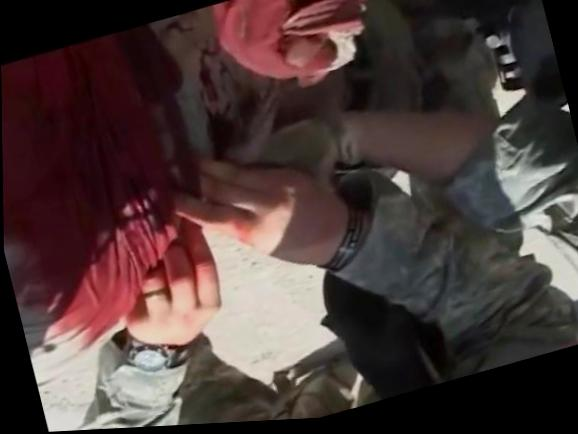Fire: (1, 26, 197, 348), (198, 50, 276, 165)
